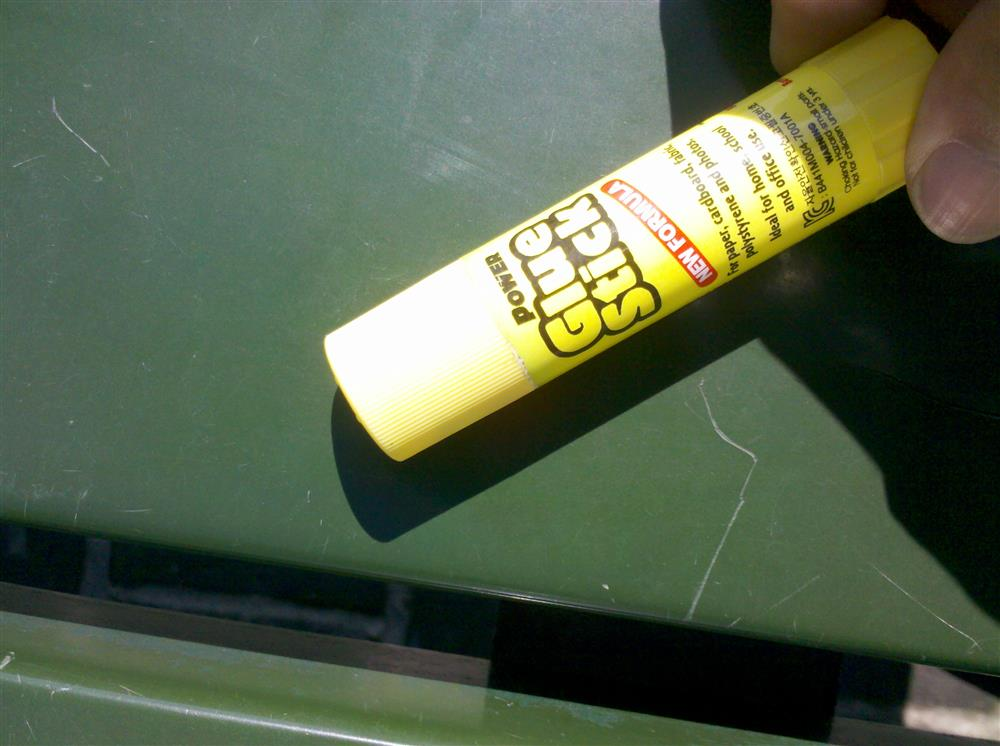Glue_stick: (320, 17, 932, 463)
